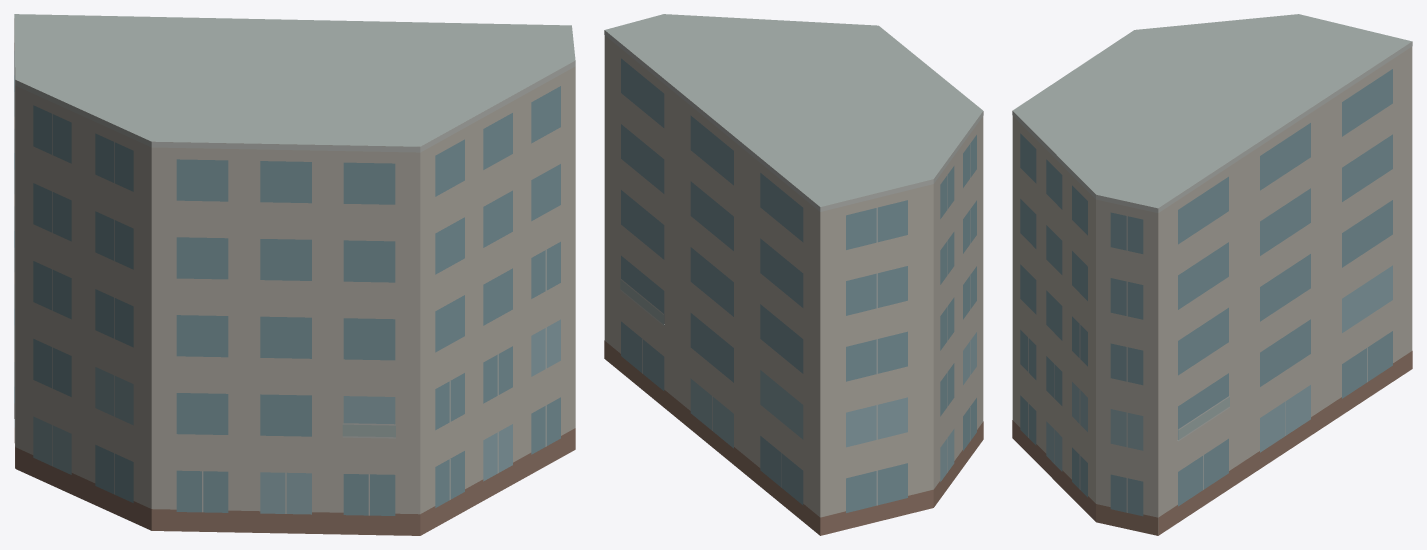
Rendered from survey-upis-32579468.glb.
3 views of the same model, side by side, from view 1: azimuth 30°, elevation 25°; view 2: azimuth 150°, elevation 25°; view 3: azimuth 270°, elevation 25° (orthographic). The views are drawn at different scales.
Parts seen in each view (by area): view 1: survey-upis-32579468.tmp; view 2: survey-upis-32579468.tmp; view 3: survey-upis-32579468.tmp.
Boxes of the visible parts, x1,y1,x2,y2 form: survey-upis-32579468.tmp: (14, 14, 575, 535); survey-upis-32579468.tmp: (604, 14, 983, 535); survey-upis-32579468.tmp: (1012, 14, 1412, 535).
Size of the model in its own units: 20.88 by 16.4 by 18.15.
